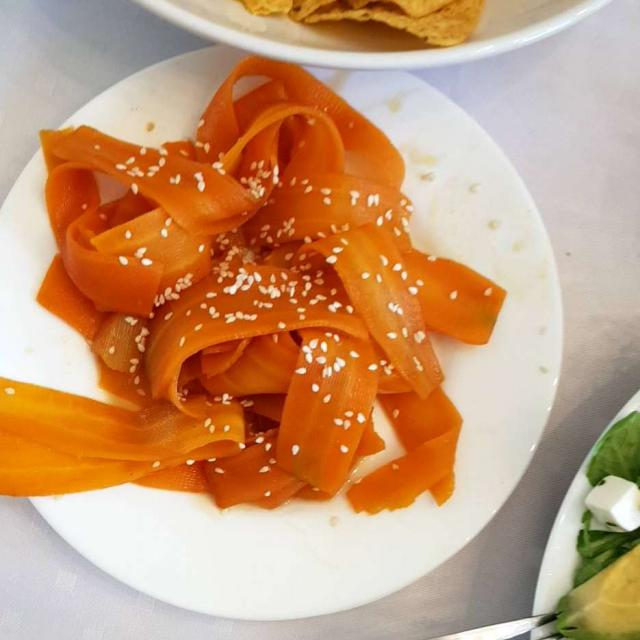carrot-steamed-without-addition-of-salt: (17, 74, 489, 505)
sesame-seeds: (114, 135, 443, 456)
